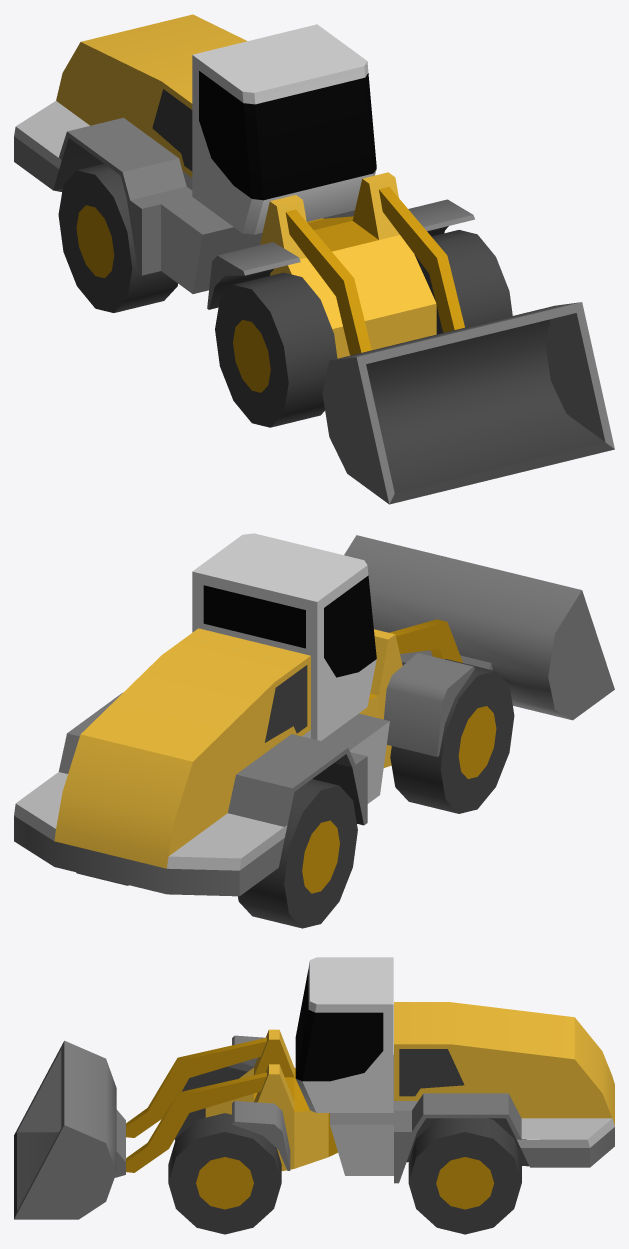
File: spec_Liebherr_L566_v2.glb
3 renders of one model, top to bottom at view 1: azimuth 30°, elevation 25°; view 2: azimuth 150°, elevation 25°; view 3: azimuth 270°, elevation 25°, orthographic. The views are drawn at different scales.
Parts seen in each view (by area): view 1: spec_Liebherr_L566_v2; view 2: spec_Liebherr_L566_v2; view 3: spec_Liebherr_L566_v2.
Part boxes in pixels (left/top/right/bottom): spec_Liebherr_L566_v2: left=14, top=14, right=614, bottom=504; spec_Liebherr_L566_v2: left=14, top=533, right=614, bottom=928; spec_Liebherr_L566_v2: left=14, top=957, right=614, bottom=1234.
Bounding box in the file's own units: 3.06 × 3.5 × 9.02.
Materials: 1 (1 with a texture image).
